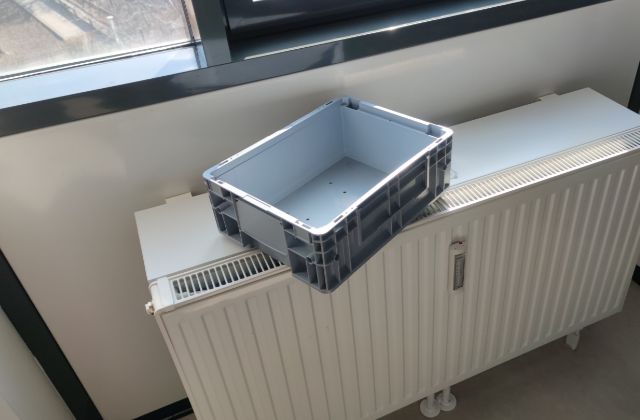Box: (201, 93, 453, 296)
